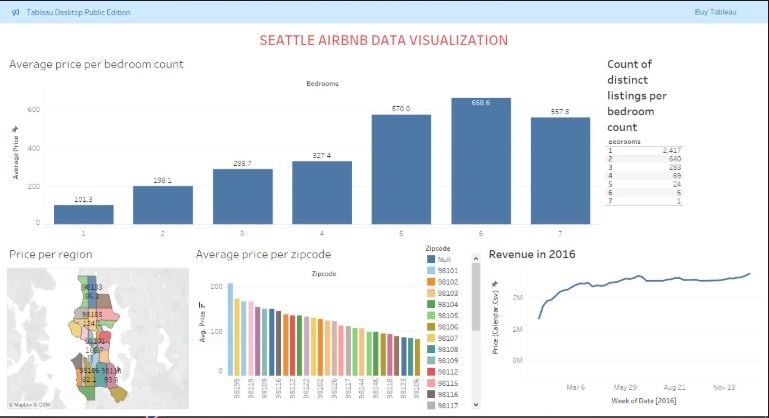

What the dashboard file says about the page in this screenshot:
{"tool":"tableau","page":{"name":"Dashboard 1","canvas":[1000,1000],"units":"permille","ordinal":0},"visuals":[{"type":"worksheet","title":"avg price per bedroom","mark":"Automatic","rows":["price (calendar.csv)"],"cols":["bedrooms"],"box":[6.7,14.2,777.4,523.1]},{"type":"worksheet","title":"count of distinct listings","mark":"Automatic","rows":["bedrooms"],"box":[784.1,14.2,209.2,523.1]},{"type":"worksheet","title":"price per region","mark":"Multipolygon","box":[6.7,537.4,242.7,448.4]},{"type":"worksheet","title":"avg price per zipcode","mark":"Automatic","rows":["price"],"cols":["zipcode"],"box":[249.4,537.4,302.1,448.4]},{"type":"legend","title":"avg price per zipcode","param":"[federated.1wany7e199vzqh1cyytmn0relywn].[none:zipcode:ok]","box":[551.5,537.4,78.7,448.4]},{"type":"worksheet","title":"price wrt time","mark":"Automatic","rows":["price (calendar.csv)"],"cols":["date"],"box":[630.1,537.4,363.2,448.4]}]}

Visuals, with their boxes on the dashboard's canvas, which has no fixed pixel size, in thousandths of its width and height (x1, y1, x2, y2). These are canvas units, not pixel positions in the 769x418 screenshot, which may show the page scaled, cropped or inside an application window:
"avg price per bedroom" worksheet: [7,14,784,537]
"count of distinct listings" worksheet: [784,14,993,537]
"price per region" worksheet (Multipolygon marks): [7,537,249,986]
"avg price per zipcode" worksheet: [249,537,552,986]
"avg price per zipcode" legend: [552,537,630,986]
"price wrt time" worksheet: [630,537,993,986]
